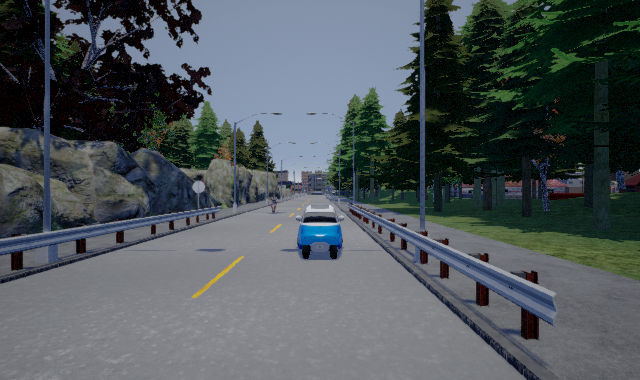bike: (267, 193, 280, 214)
vehicle: (296, 202, 347, 259)
